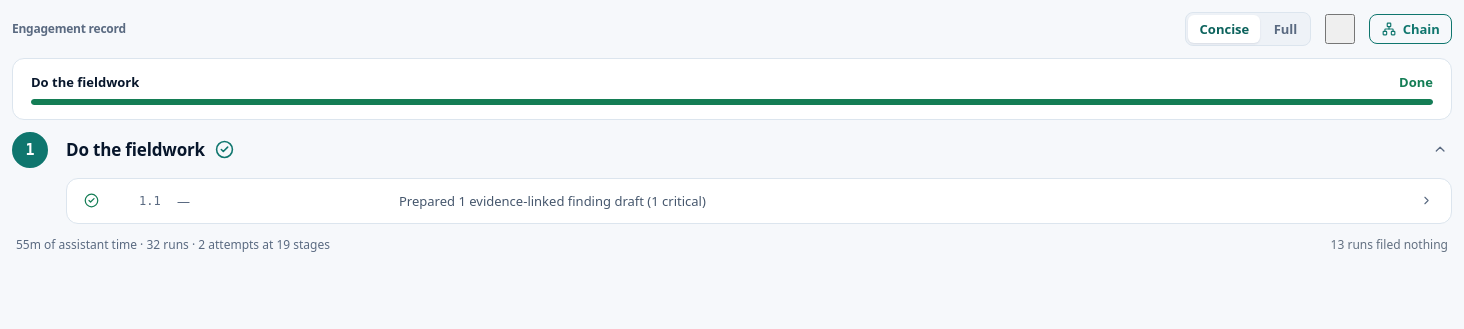
EngagementRecordTab › shows a capability with no artifact mapping without inventing one
Expected: the text "—" is shown, [177, 192, 190, 210]
Expected: the text "Prepared 1 evidence-linked finding draft (1 critical)" is shown, [399, 192, 706, 210]
Step 1. Click the button with class "chev" → (1426, 201), box [1417, 192, 1435, 209]
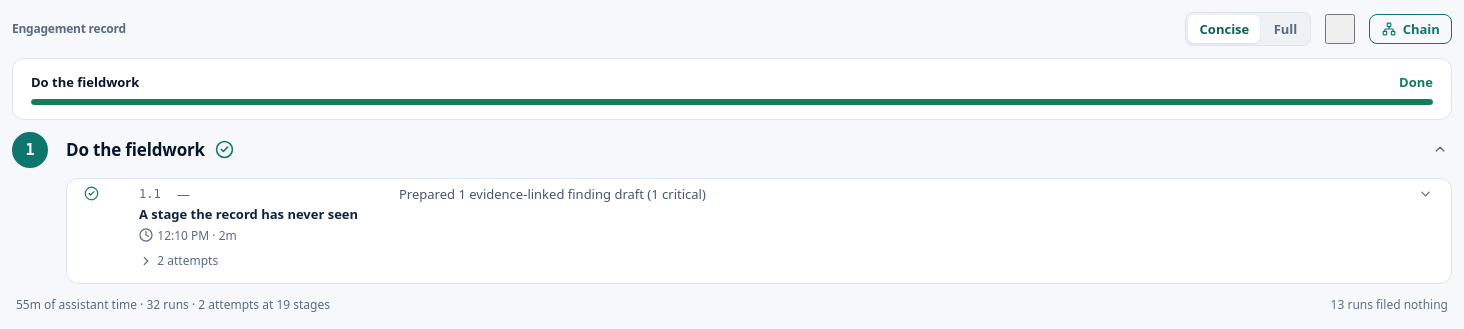
Expected: the text with class "sen" reads "A stage the record has never seen", [139, 205, 358, 223]
